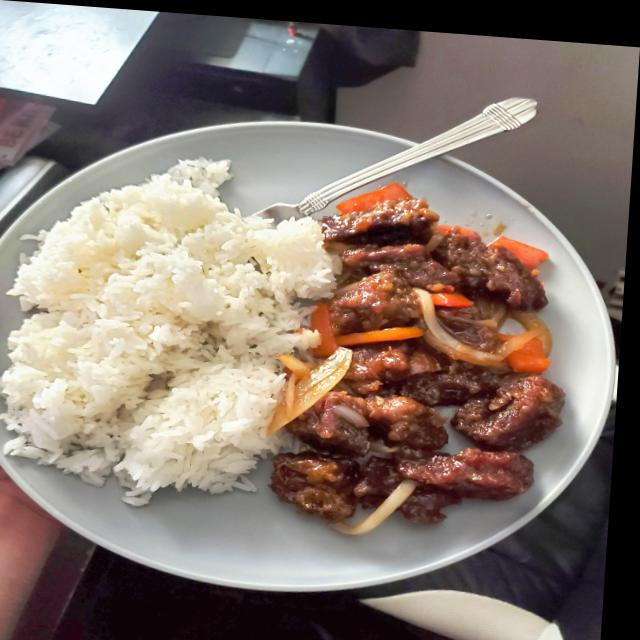Beijing Beef: (268, 179, 578, 548)
rice: (0, 145, 345, 521)
